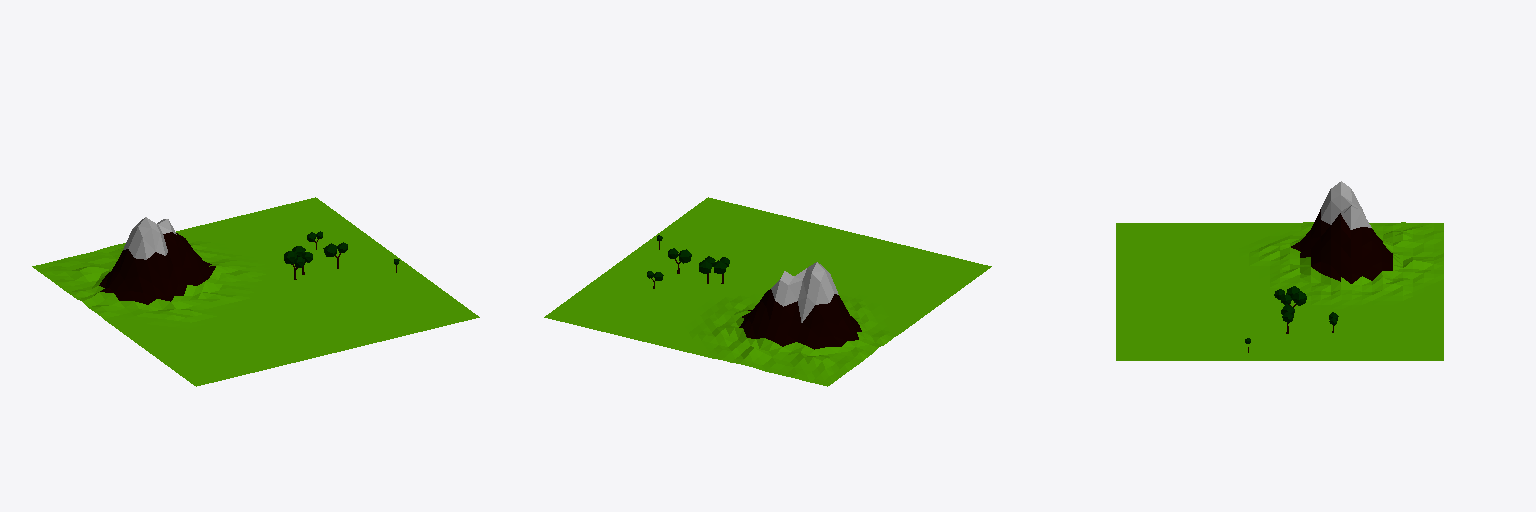
Rendered from world1.obj.
The picture shows the model from 3 angles: view 1: azimuth 30°, elevation 25°; view 2: azimuth 150°, elevation 25°; view 3: azimuth 270°, elevation 25°; orthographic projection.
Parts seen in each view (by area): view 1: Plane; view 2: Plane; view 3: Plane.
Part boxes in pixels (bbox=[...]): Plane: bbox=[32, 197, 479, 386]; Plane: bbox=[544, 197, 991, 386]; Plane: bbox=[1116, 181, 1443, 360].
Bounding box in the file's own units: 100 × 24.23 × 100.